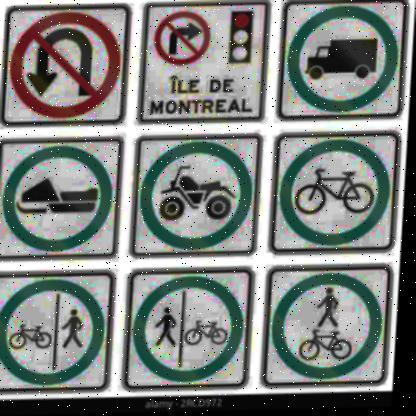No U-turn: (3, 3, 126, 122)
